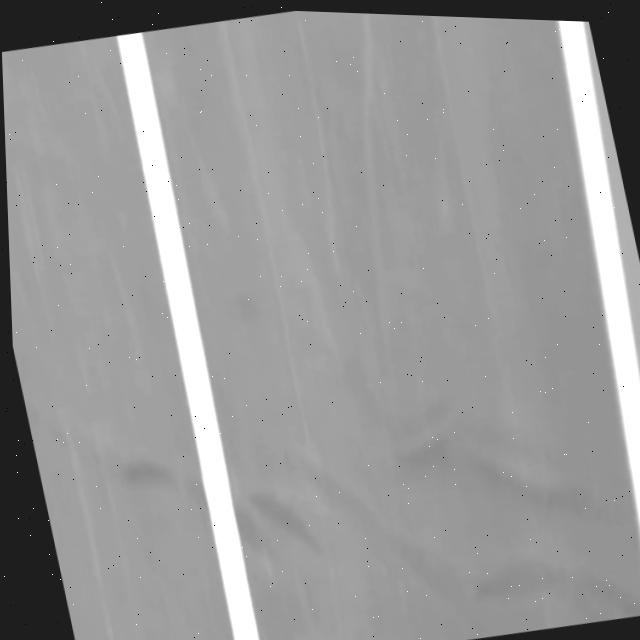center: (117, 32, 259, 640)
left: (559, 21, 640, 529)
